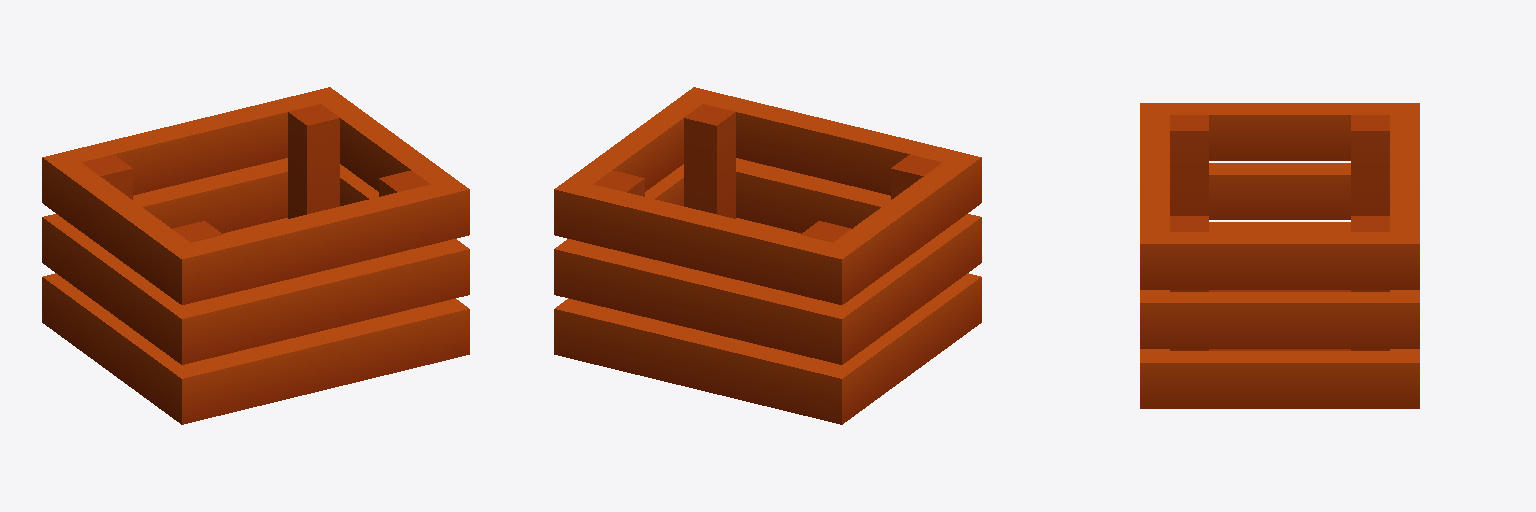
3 renders of one model, left to right at view 1: azimuth 30°, elevation 25°; view 2: azimuth 150°, elevation 25°; view 3: azimuth 270°, elevation 25°, orthographic.
Parts seen in each view (by area): view 1: Cube_Cube.001, Cube.002_Cube.007; view 2: Cube_Cube.001, Cube.002_Cube.007; view 3: Cube_Cube.001, Cube.002_Cube.007.
Part boxes in pixels (left/top/right/bottom): Cube_Cube.001: left=42, top=87, right=469, bottom=424; Cube.002_Cube.007: left=81, top=104, right=429, bottom=242; Cube_Cube.001: left=554, top=87, right=981, bottom=424; Cube.002_Cube.007: left=594, top=104, right=942, bottom=242; Cube_Cube.001: left=1140, top=103, right=1419, bottom=408; Cube.002_Cube.007: left=1170, top=115, right=1389, bottom=350.
Size of the model in its own units: 0.9516 by 0.5222 by 0.7998.
1 materials, 1 textured.